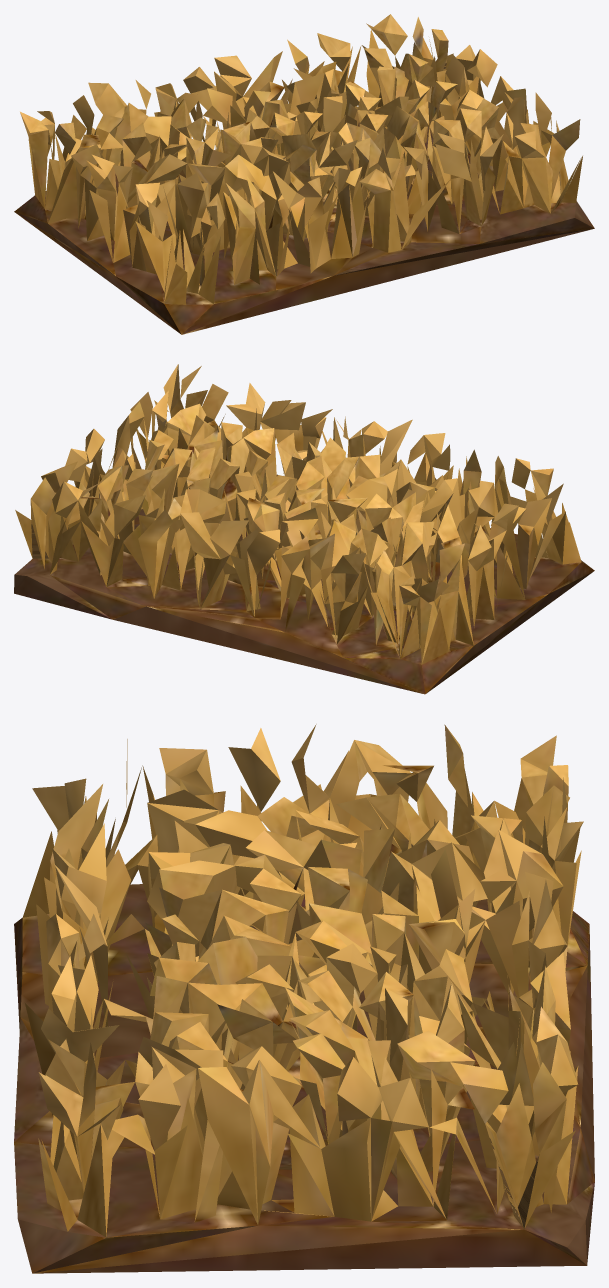
Rendered from grain-field.glb.
3 views of the same model, one above another, from view 1: azimuth 30°, elevation 25°; view 2: azimuth 150°, elevation 25°; view 3: azimuth 270°, elevation 25° (orthographic). The views are drawn at different scales.
Bounding box in the file's own units: 1.87 × 0.4939 × 1.28.
Materials: 1 (1 with a texture image).
